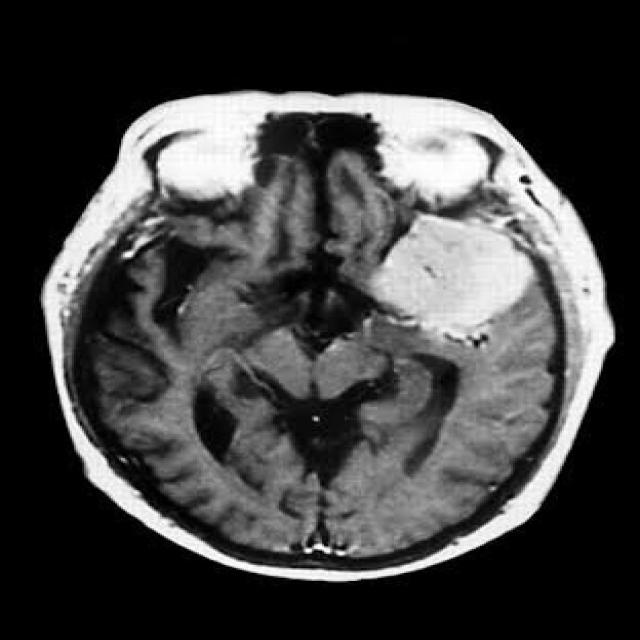brain_tumor: (365, 214, 535, 332)
